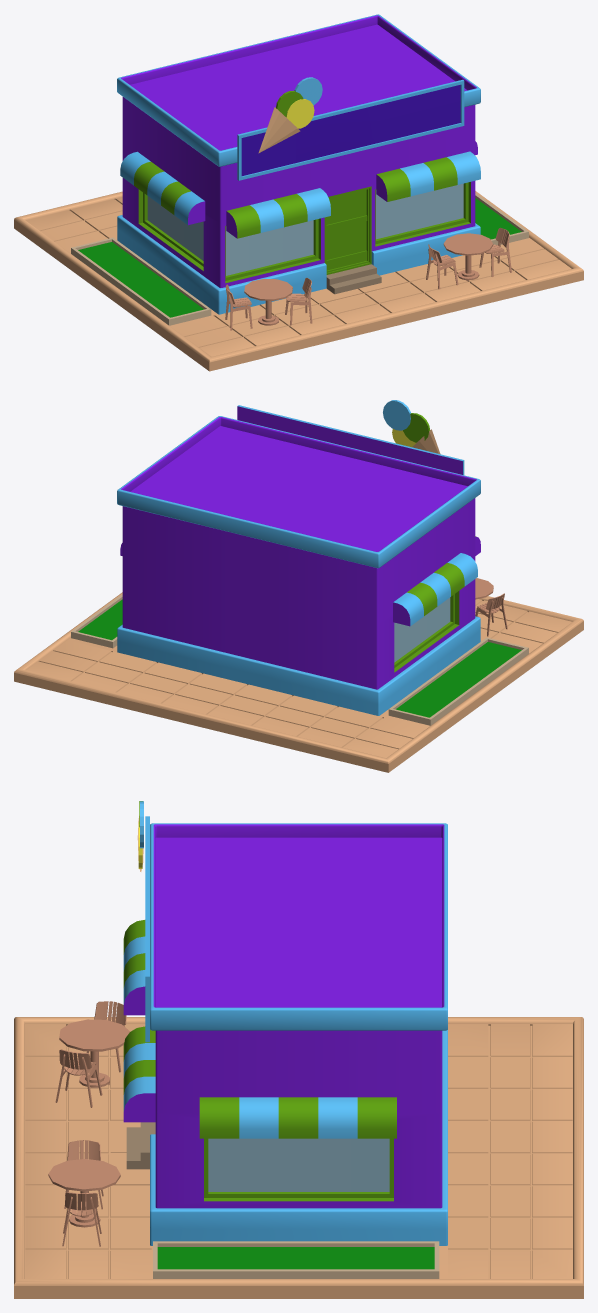
The model's file is commercial-building-ice-cream-shop.fbx.
3 views of the same model, one above another, from view 1: azimuth 30°, elevation 25°; view 2: azimuth 150°, elevation 25°; view 3: azimuth 270°, elevation 25° (orthographic). The views are drawn at different scales.
Visible parts, largest first — view 1: commercial-building-ice-cream-shop; view 2: commercial-building-ice-cream-shop; view 3: commercial-building-ice-cream-shop.
Part boxes in pixels (box(x1,y1,x2,y2)): commercial-building-ice-cream-shop: box(14, 14, 583, 371); commercial-building-ice-cream-shop: box(14, 400, 583, 772); commercial-building-ice-cream-shop: box(14, 801, 583, 1298).
Size of the model in its own units: 1173 by 678 by 1061.
1 material, 1 textured.
